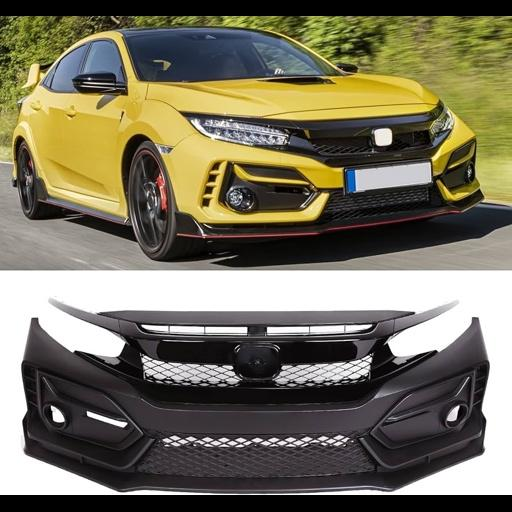car: (22, 300, 489, 492), (473, 467, 476, 470), (61, 319, 64, 322), (88, 339, 89, 341)
hatchback: (13, 28, 482, 259)
